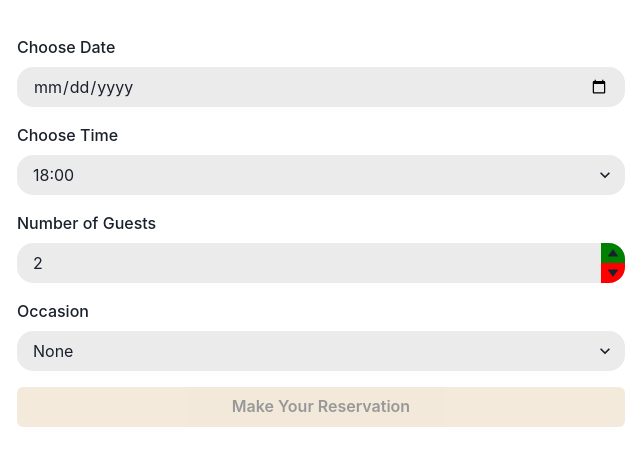
Scenario: BookingForm › Check if the button is Disabled
In the date field labelled "Choose Date": point(321, 87) [17, 67, 625, 107], type "2023-02-01"
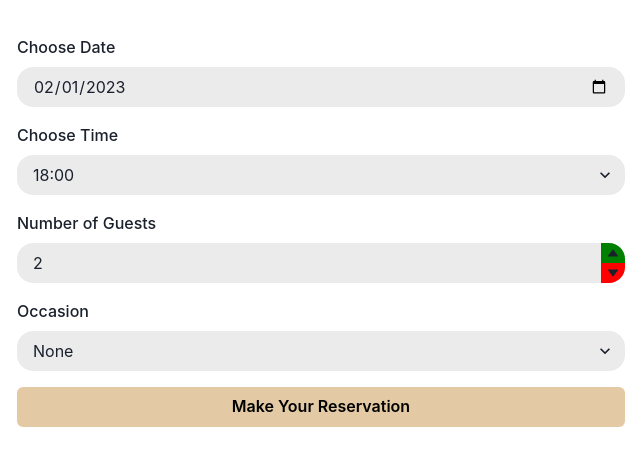
Select "18:00" in the dropdown labelled "Choose Time": point(321, 175) [17, 155, 625, 195]
Replace the text in the number field labelled "Number of Guests" with "1": point(321, 263) [17, 243, 625, 283]
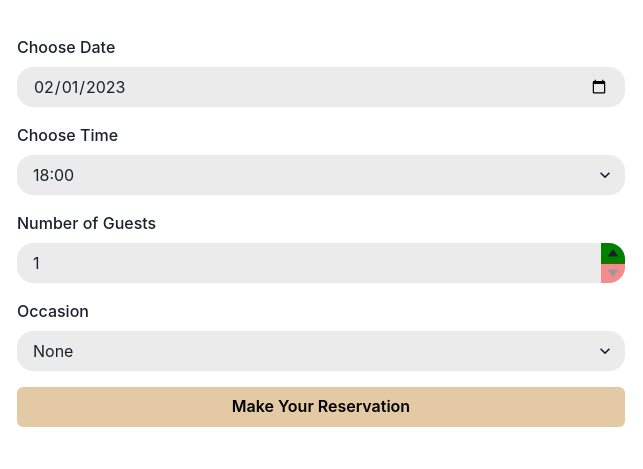
Select "Anniversary" in the dropdown labelled "Occasion": point(321, 351) [17, 331, 625, 371]
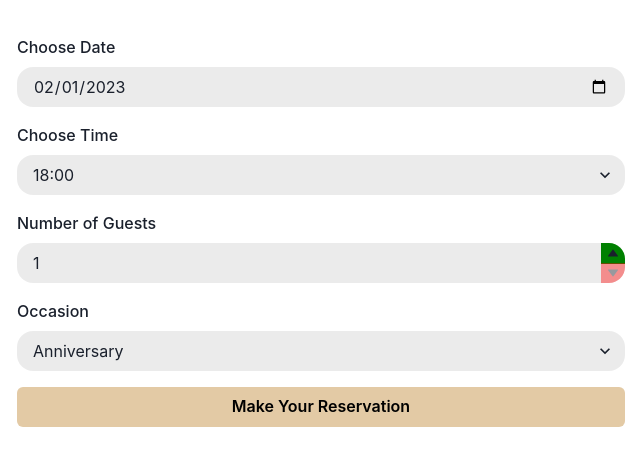
Click the button "Make Your Reservation": point(321, 407) [17, 387, 625, 427]
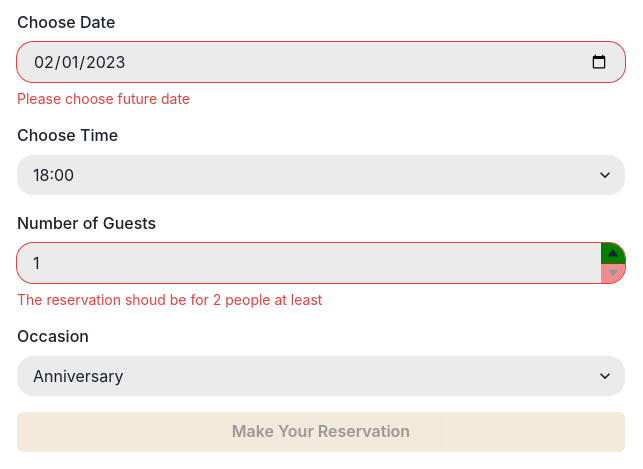
Check: the button "Make Your Reservation" is disabled, box [17, 412, 625, 452]
